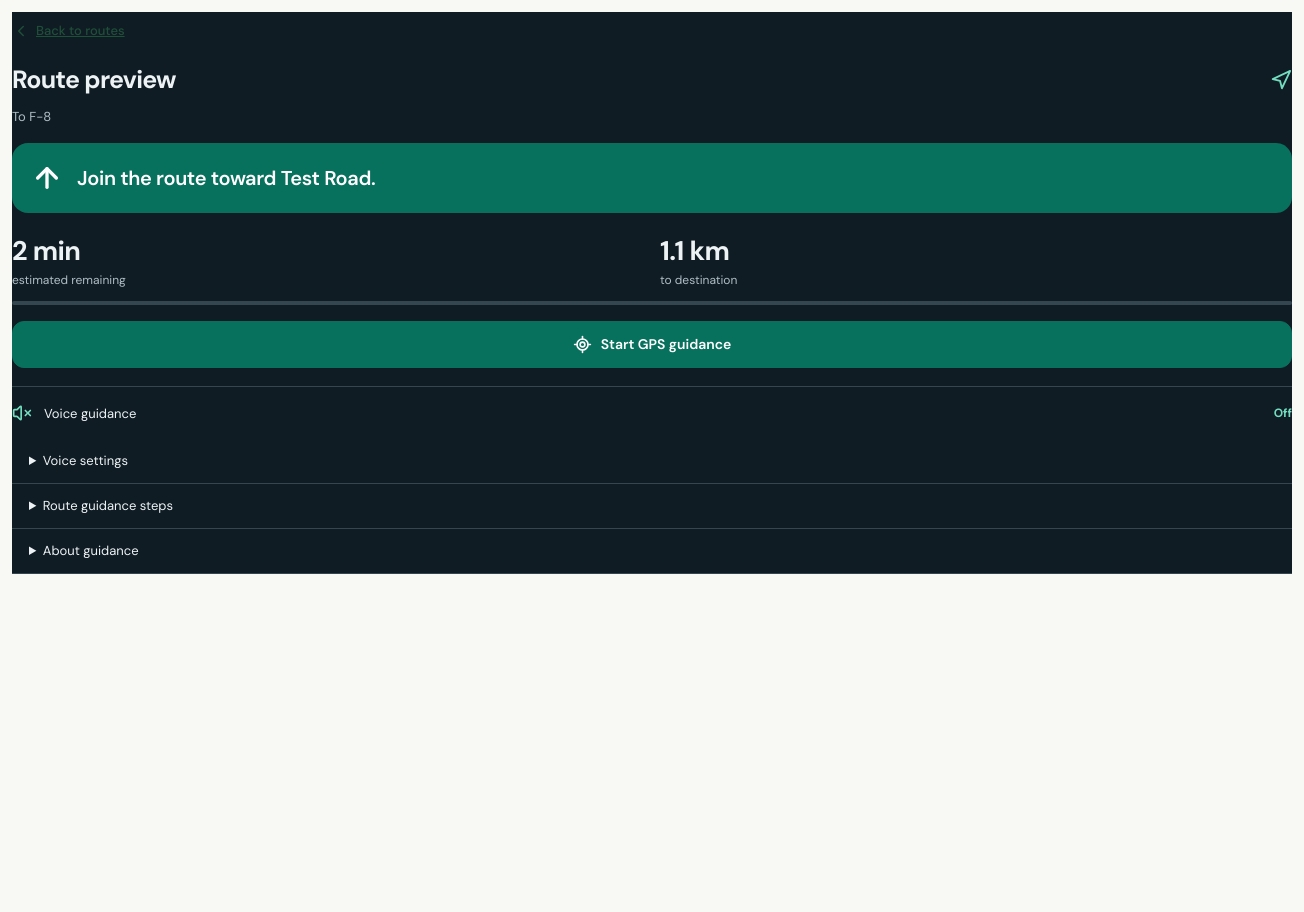
it: recovers automatically when a fresh accurate fix replaces an approximate location
The image size is (1304, 912).
Click the button "Start GPS guidance".
click(652, 345)  # box [12,321,1292,368]
Wait 1000 ms
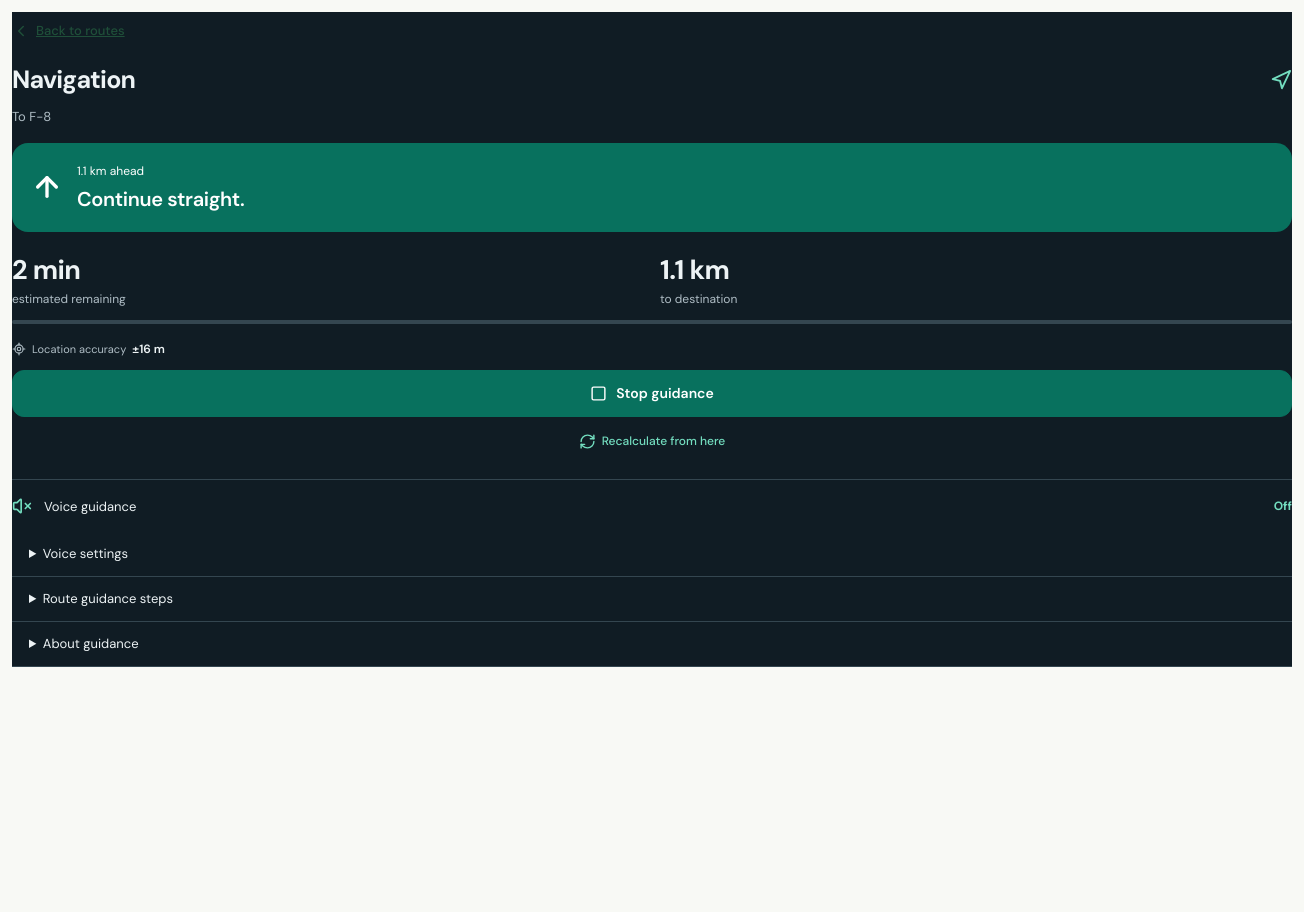
Expected: the element with class "navigation-metrics" is shown, [12,252,737,307]
Now the text "±16 m" is shown, box [132,340,165,358]
